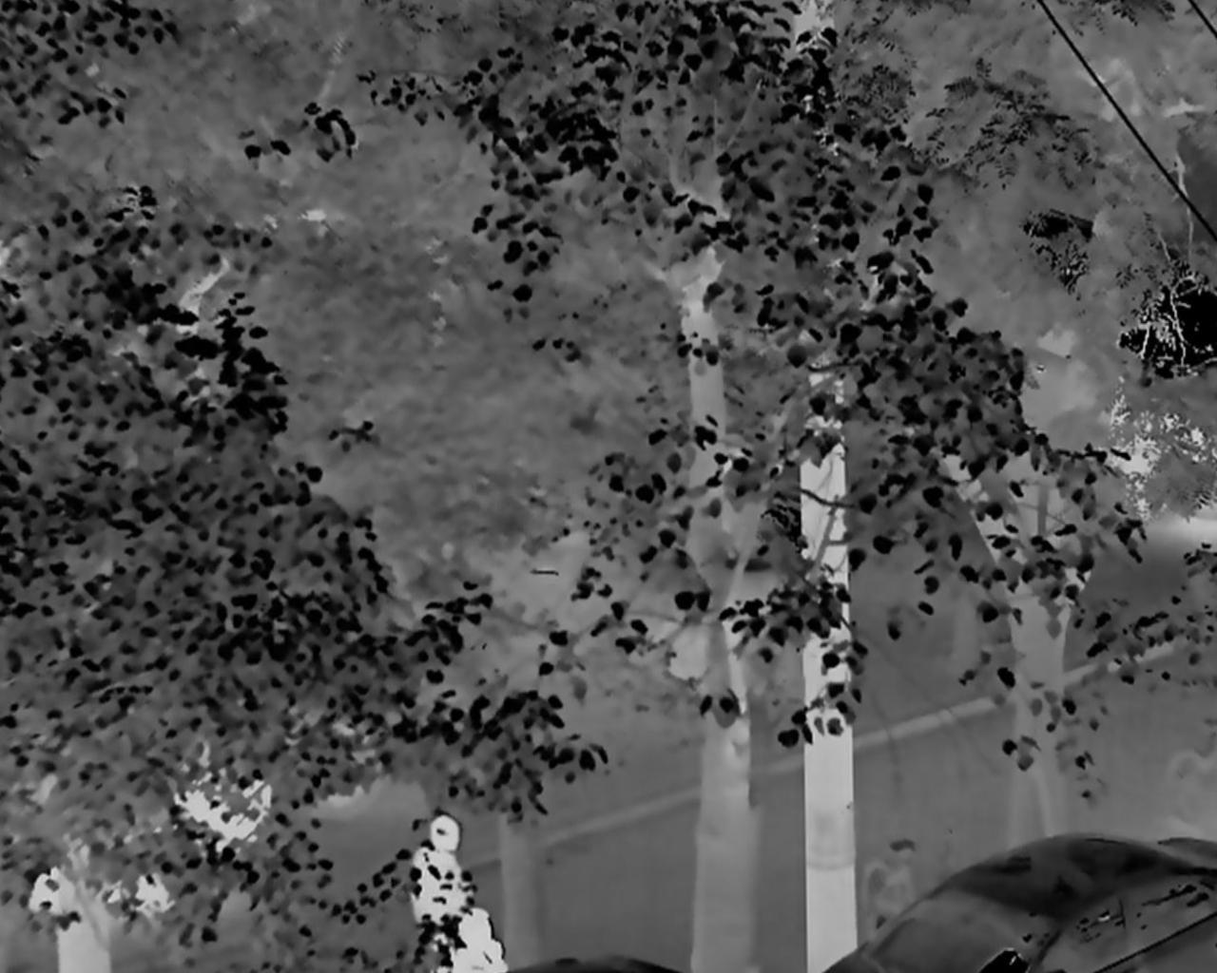person: (412, 816, 474, 970)
